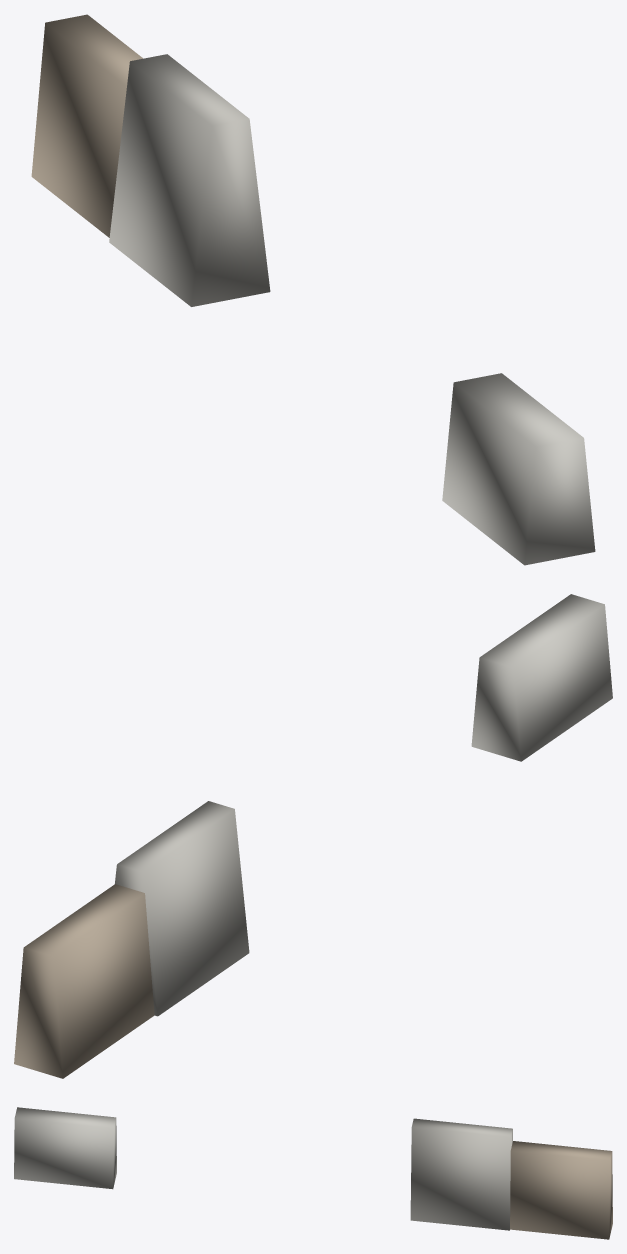
The model's file is farm_27_41_collision.glb.
3 views of the same model, one above another, from view 1: azimuth 30°, elevation 25°; view 2: azimuth 150°, elevation 25°; view 3: azimuth 270°, elevation 25° (orthographic). The views are drawn at different scales.
Visible parts, largest first — view 1: geometry_0; view 2: geometry_0; view 3: geometry_0.
Part boxes in pixels (bbox=[...]): geometry_0: bbox=[31, 14, 595, 565]; geometry_0: bbox=[14, 594, 612, 1078]; geometry_0: bbox=[14, 1107, 612, 1239].
Size of the model in its own units: 1.53 by 1.75 by 9.45.
